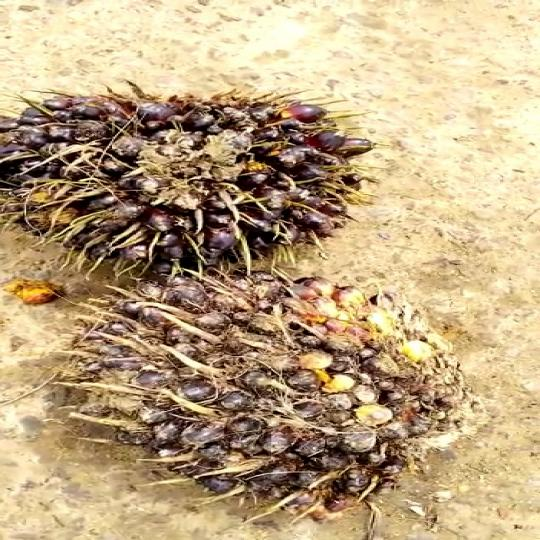mentah: (54, 264, 467, 526), (0, 70, 391, 288)
